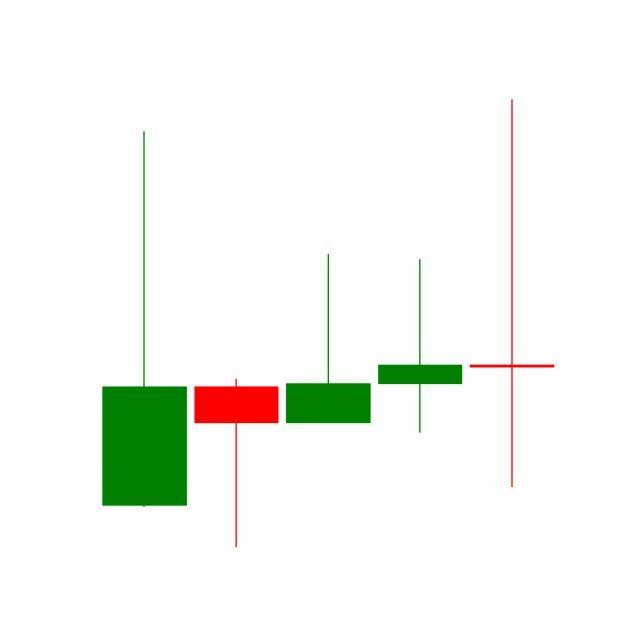Spinning Top: (374, 257, 468, 436)
